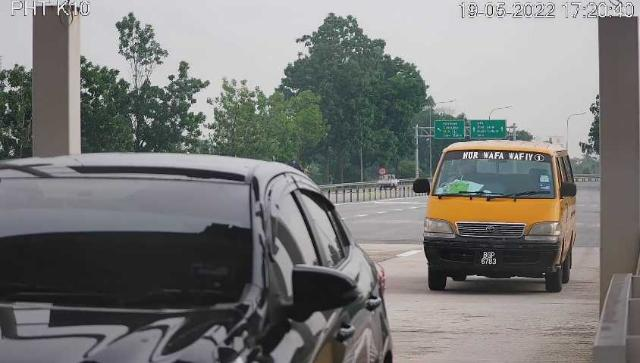License_Plate: (477, 249, 501, 271)
van: (424, 142, 578, 294)
